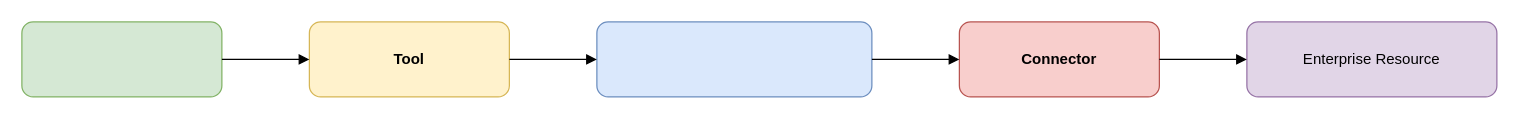
Some shapes in this 1519 by 119 pixel diagram are drawn without their labels. Each missing label, with the box of its shape:
Agent: (21, 21, 222, 97)
AI Integration Service: (596, 21, 872, 97)
